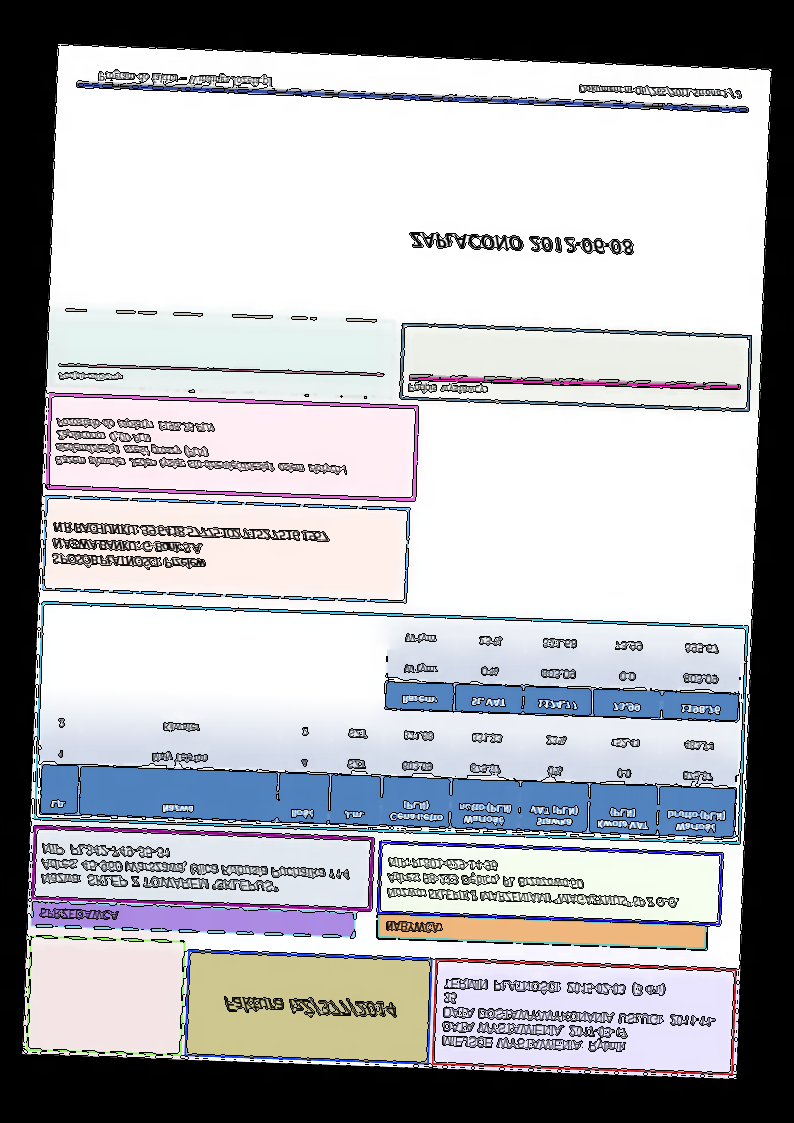Table: (38, 700, 740, 841), (382, 617, 744, 724)
TextBox: (439, 972, 720, 1060), (54, 415, 354, 478), (38, 839, 352, 898), (384, 853, 683, 912), (49, 517, 331, 578), (408, 228, 634, 260), (219, 992, 401, 1022), (96, 67, 273, 93), (576, 81, 744, 104), (405, 379, 490, 399), (35, 906, 123, 925), (56, 368, 125, 388), (382, 917, 443, 938)
